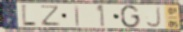1: (96, 4, 106, 29)
G: (120, 5, 141, 29)
I: (74, 5, 81, 27)
J: (146, 5, 163, 28)
L: (20, 4, 38, 28)
Z: (40, 5, 61, 27)
